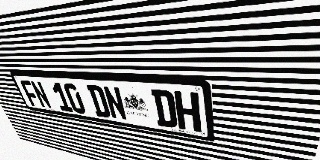0: (62, 83, 87, 114)
1: (49, 82, 73, 112)
D: (151, 89, 178, 129), (86, 85, 111, 118)
F: (19, 80, 42, 107)
H: (174, 91, 201, 132)
N: (102, 86, 128, 121), (29, 81, 53, 109)
